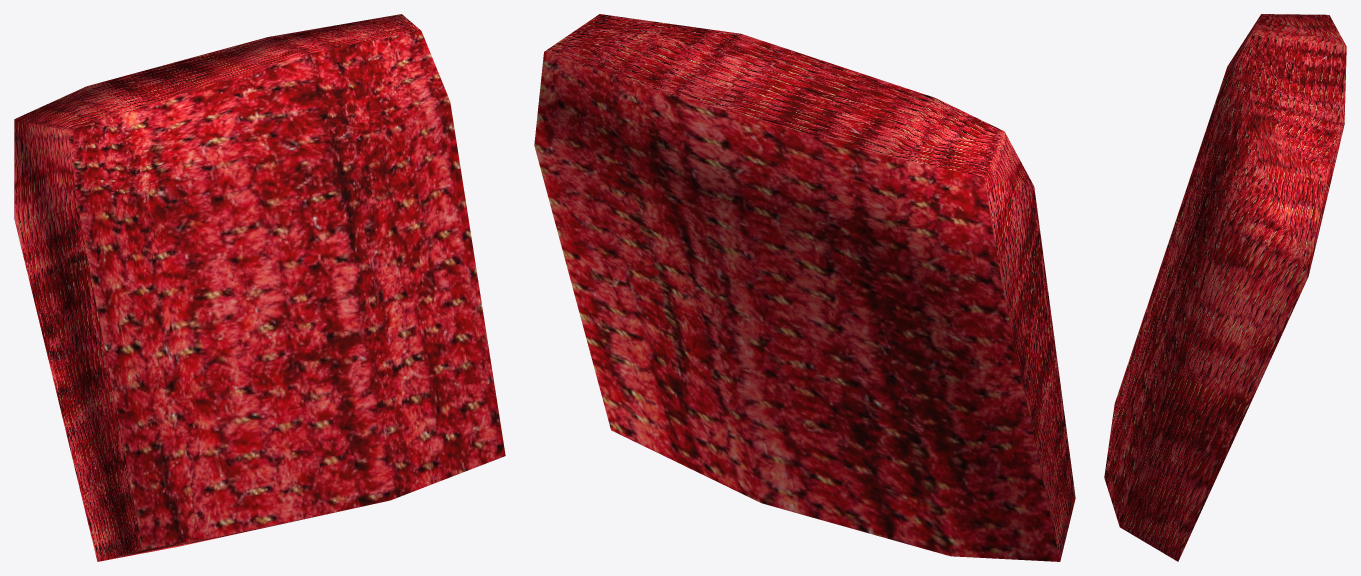
File: Obj_vid_01_coixi_1.fbx
3 renders of one model, left to right at view 1: azimuth 30°, elevation 25°; view 2: azimuth 150°, elevation 25°; view 3: azimuth 270°, elevation 25°, orthographic. The views are drawn at different scales.
Parts seen in each view (by area): view 1: Obj_vid_01_coixi_1; view 2: Obj_vid_01_coixi_1; view 3: Obj_vid_01_coixi_1.
Part boxes in pixels (box(x1,y1,x2,y2)): Obj_vid_01_coixi_1: box(14, 14, 505, 561); Obj_vid_01_coixi_1: box(534, 14, 1075, 561); Obj_vid_01_coixi_1: box(1104, 14, 1346, 561).
Bounding box in the file's own units: 0.4278 × 0.4336 × 0.2289.
